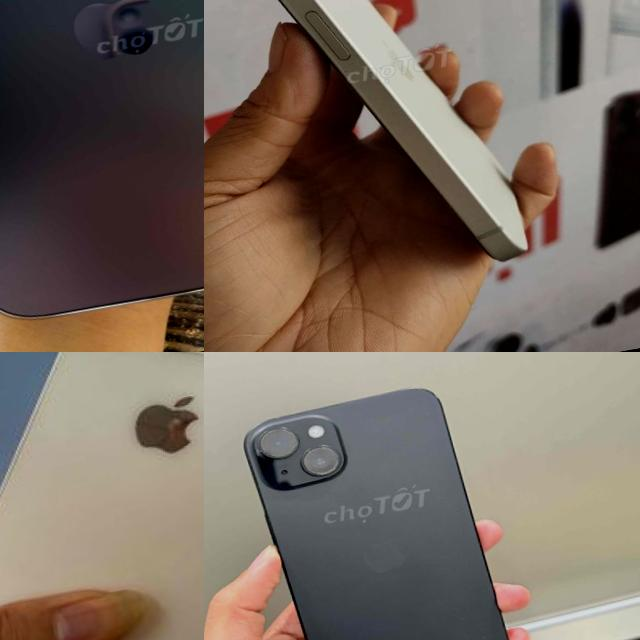gen_14: (0, 0, 204, 339), (0, 352, 204, 640)
gen_15: (204, 0, 565, 309), (204, 368, 543, 640)
